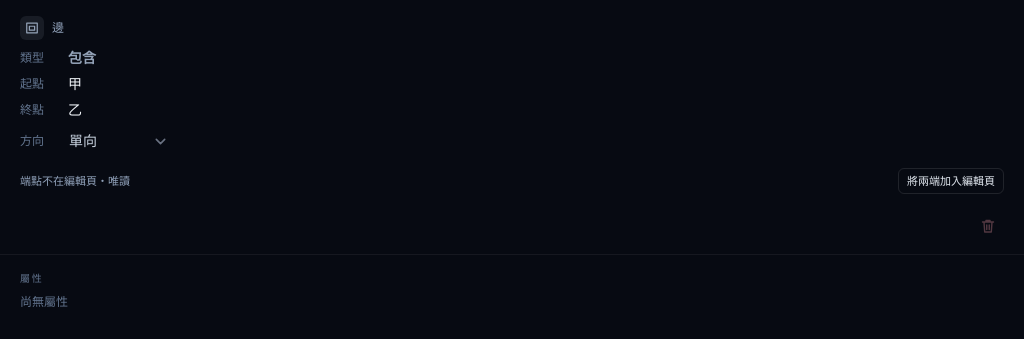
it: DetailPanel：工作區外的詳情 › 工作區外端點的連結點了會明確說明；「將兩端加入編輯頁」加入後可編輯
Check: the dropdown named "方向" is disabled, box [68, 126, 180, 156]
Click the button named "終點：乙".
click(75, 110)  # box [68, 100, 82, 120]
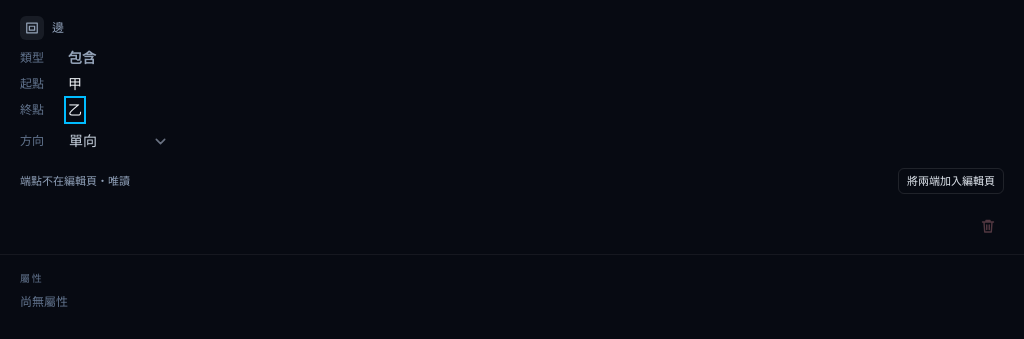
Click the button "將兩端加入編輯頁".
click(951, 181)  # box [898, 168, 1004, 194]
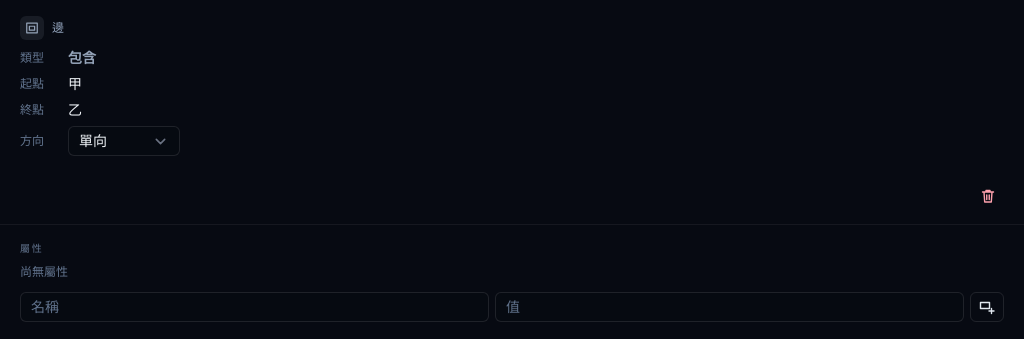
Check: the dropdown named "方向" is enabled, box [68, 126, 180, 156]
